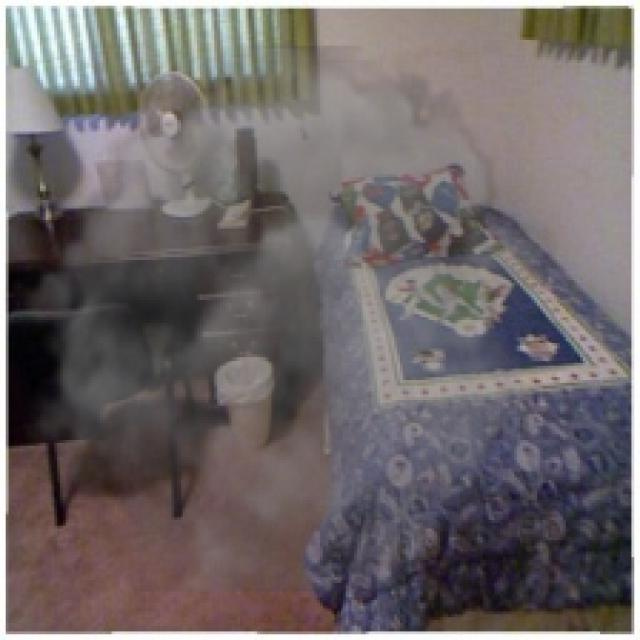smoke: (3, 46, 557, 591)
